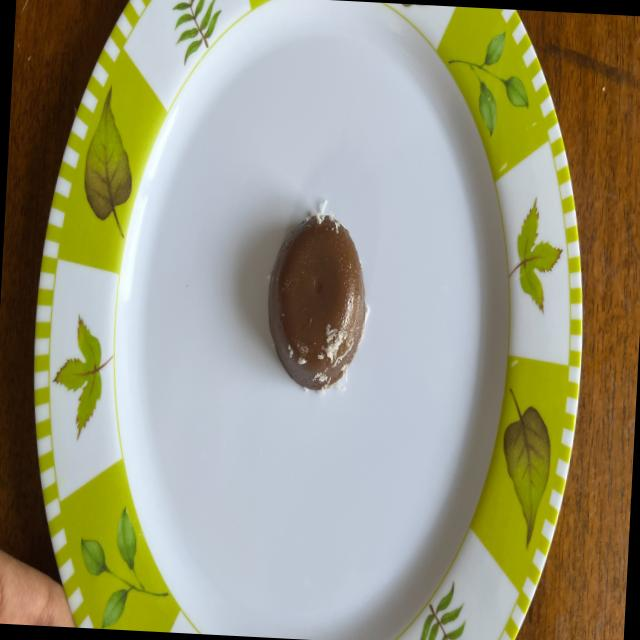Kuih lompang: (268, 212, 366, 391)
